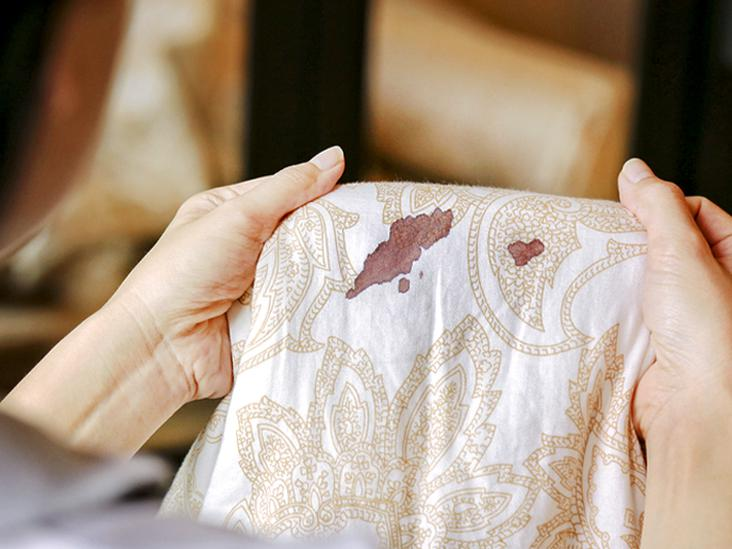gun: (340, 197, 459, 312), (503, 231, 548, 267)
